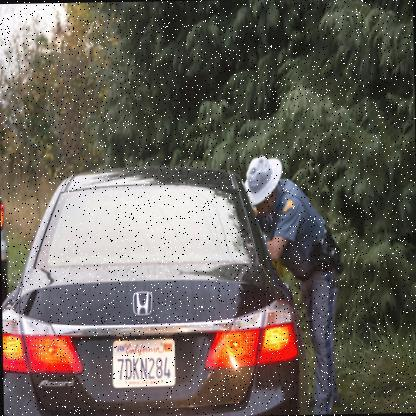License-Plate: (109, 334, 179, 395)
